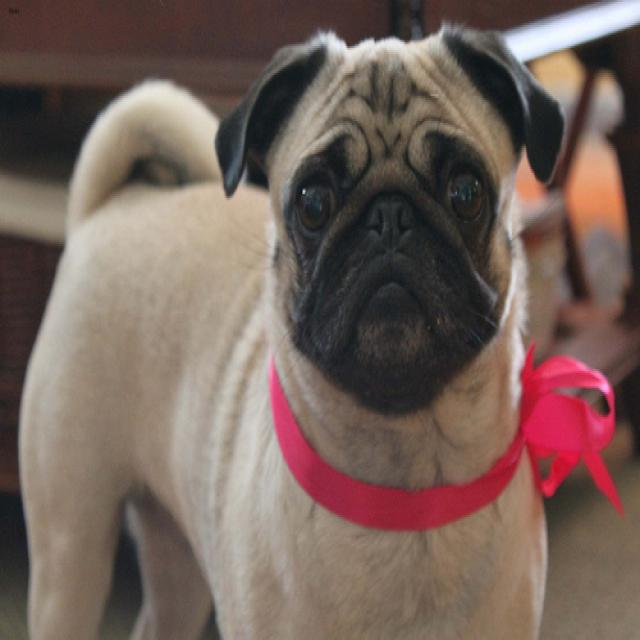dog-pug: (10, 13, 568, 636)
